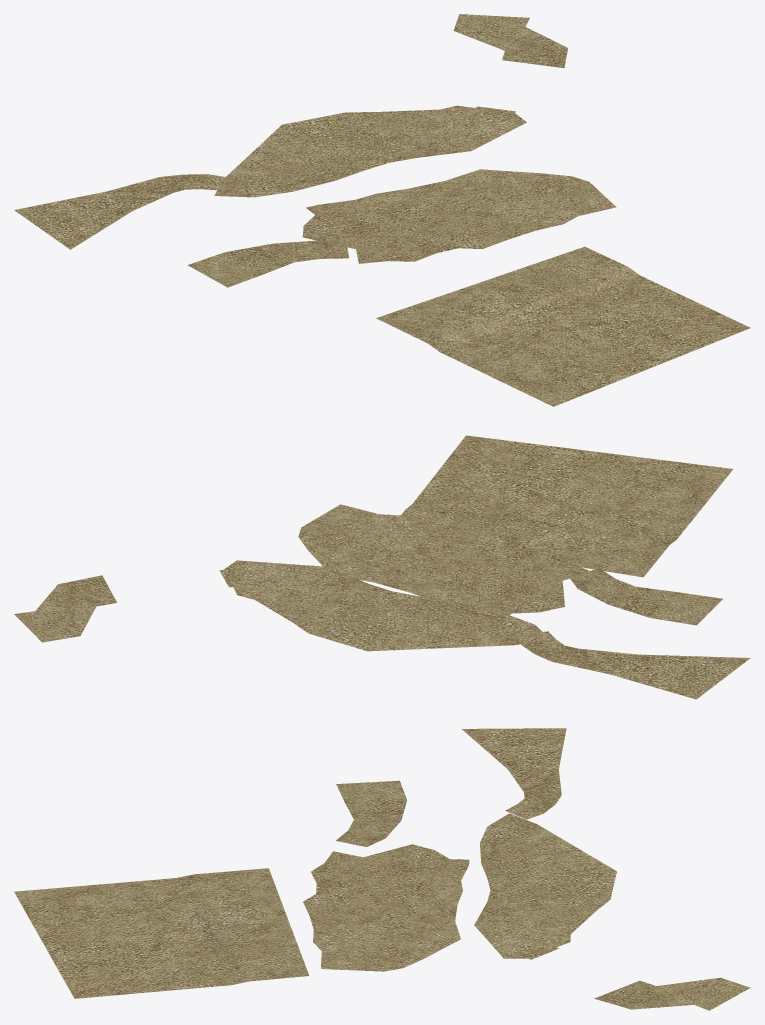
File: xsz_dimian_1.FBX
3 views of the same model, one above another, from view 1: azimuth 30°, elevation 25°; view 2: azimuth 150°, elevation 25°; view 3: azimuth 270°, elevation 25° (orthographic). The views are drawn at different scales.
Visible parts, largest first — view 1: xsz_dimian_1; view 2: xsz_dimian_1; view 3: xsz_dimian_1.
Part boxes in pixels (left/top/right/bottom): xsz_dimian_1: left=14, top=14, right=750, bottom=406; xsz_dimian_1: left=14, top=435, right=750, bottom=699; xsz_dimian_1: left=14, top=728, right=750, bottom=1010.
Size of the model in its own units: 8846 by 680 by 9962.
